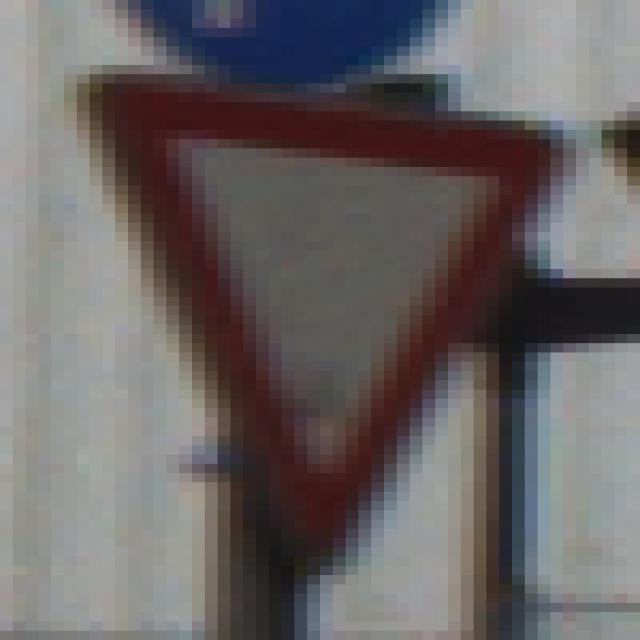Give Way: (78, 57, 577, 585)
